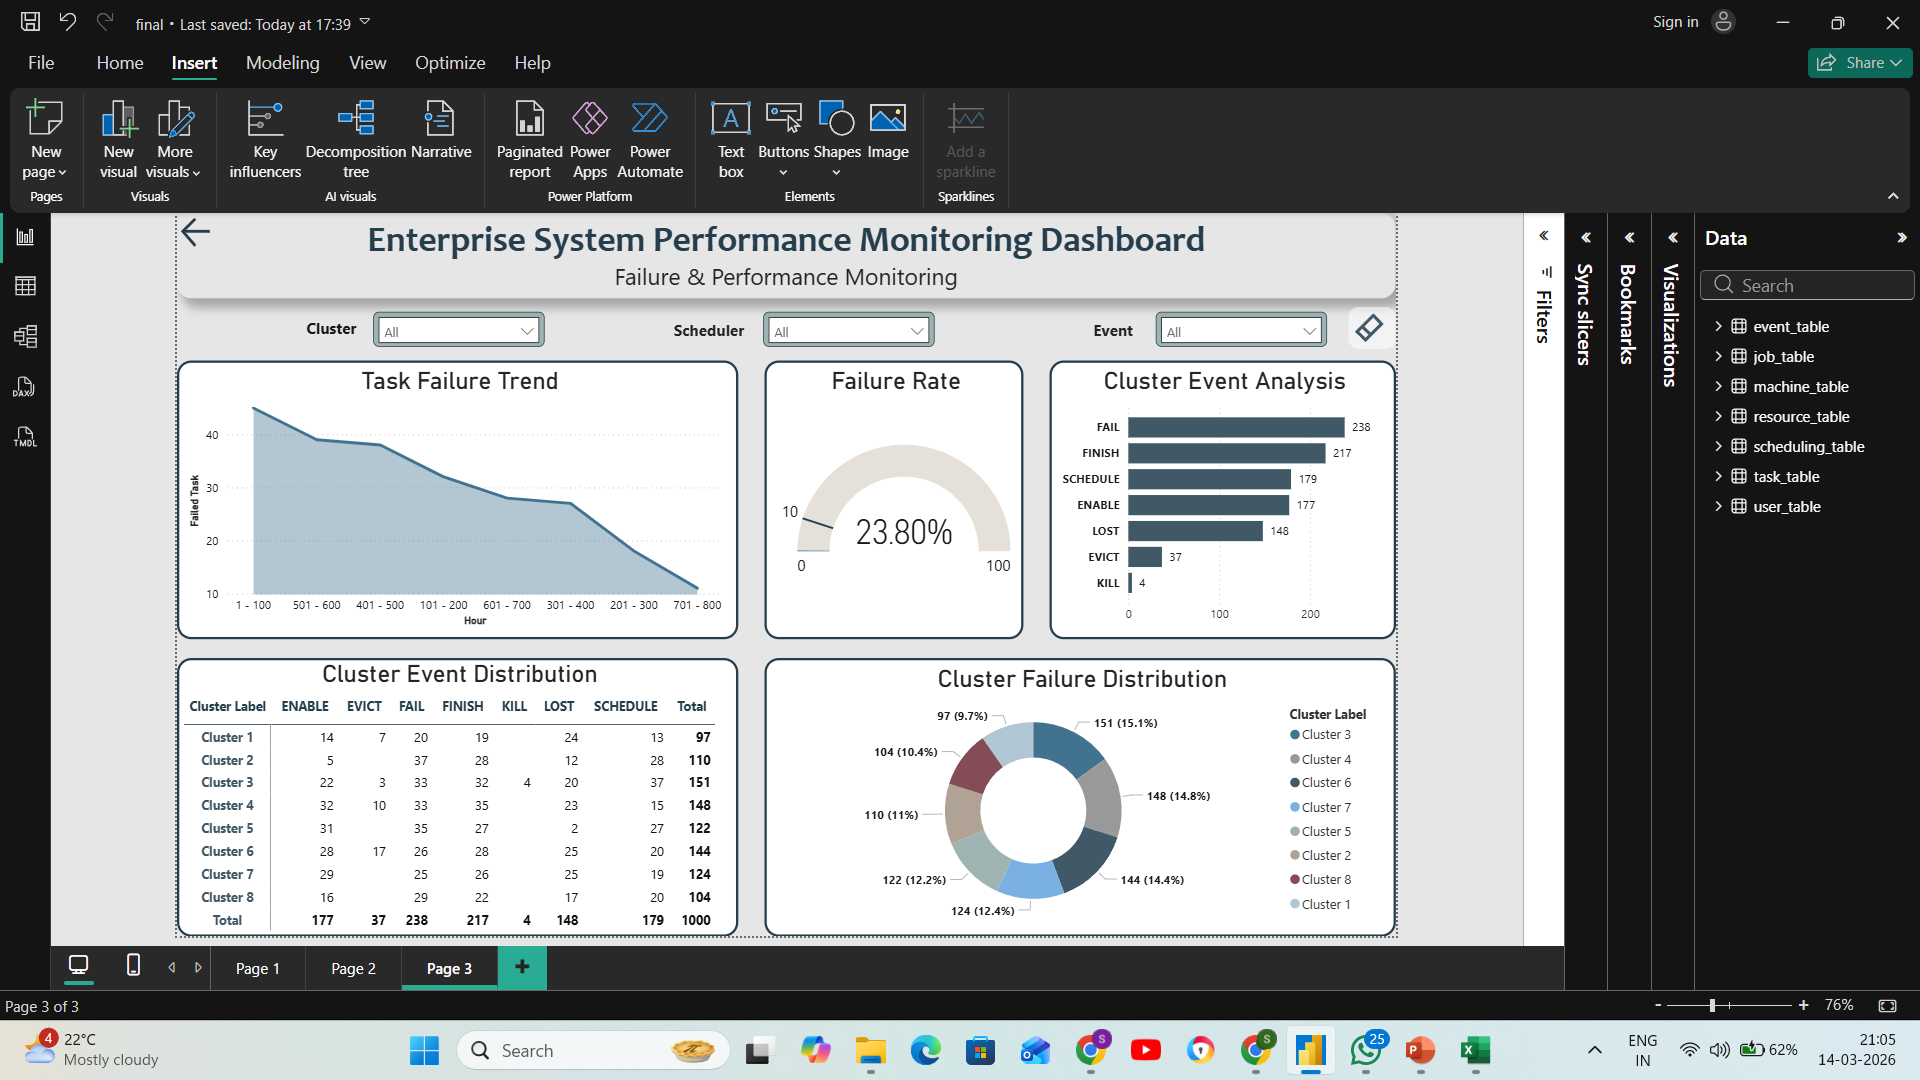

Layout of this report page (visuals, bound fields, positions):
{"tool":"powerbi","page":{"name":"Page 3","canvas":[1280,760],"ordinal":2},"visuals":[{"type":"slicer","title":"Cluster","fields":{"Values":["machine_table.cluster_Label"]},"box":[206.5,103.2,180,37],"z":0},{"type":"slicer","title":"Cluster","fields":{"Values":["scheduling_table.Scheduler_Label"]},"box":[616.4,103.2,180,37],"z":1000},{"type":"slicer","title":"Cluster","fields":{"Values":["event_table.event"]},"box":[1028.8,103.2,180,37],"z":2000},{"type":"areaChart","title":"Task Failure Trend","fields":{"Category":["task_table.task_start_hour (groups)"],"Y":["Sum(task_table.failed)"]},"box":[0,154.9,589.6,292.8],"z":3000},{"type":"barChart","title":"Cluster Event Analysis","fields":{"Category":["task_table.event"],"Y":["CountNonNull(task_table.event)"]},"box":[916.5,154.9,363.7,292.8],"z":4000},{"type":"gauge","title":"Failure Rate","fields":{"Y":["task_table.Failure Rate"],"MinValue":["task_table.Gauge Min"],"MaxValue":["task_table.Gauge Max"],"TargetValue":["task_table.Failure Target"]},"box":[617.1,154.9,271.8,292.8],"z":5000},{"type":"donutChart","title":"Cluster Failure Distribution","fields":{"Category":["machine_table.cluster_Label"],"Y":["CountNonNull(task_table.failed)"]},"box":[617.1,467.5,663.1,292.8],"z":6000},{"type":"textbox","box":[118.2,104.5,88.3,32.3],"z":7000},{"type":"textbox","box":[515,105.7,88.3,32.3],"z":8000},{"type":"textbox","box":[949.3,106.4,68.3,31.5],"z":9000},{"type":"pivotTable","title":"Cluster Event Distribution","fields":{"Rows":["machine_table.cluster_Label"],"Columns":["event_table.event"],"Values":["task_table.Total Task"]},"box":[0,467.5,589.6,292.8],"z":10000},{"type":"textbox","box":[0,0,1280.2,89.3],"z":11000},{"type":"actionButton","box":[1230.3,98.5,49.9,44.6],"z":12000},{"type":"actionButton","box":[0,0,44.8,40.5],"z":13000}]}

Visuals, with their boxes on the page's 1280x760 design canvas (x1, y1, x2, y2). These are canvas units, not pixel positions in the 1920x1080 screenshot, which may show the page scaled, cropped or inside an application window:
"Cluster" slicer: BBox(206, 103, 386, 140)
"Cluster" slicer: BBox(616, 103, 796, 140)
"Cluster" slicer: BBox(1029, 103, 1209, 140)
"Task Failure Trend" areaChart: BBox(0, 155, 590, 448)
"Cluster Event Analysis" barChart: BBox(916, 155, 1280, 448)
"Failure Rate" gauge: BBox(617, 155, 889, 448)
"Cluster Failure Distribution" donutChart: BBox(617, 468, 1280, 760)
textbox: BBox(118, 104, 206, 137)
textbox: BBox(515, 106, 603, 138)
textbox: BBox(949, 106, 1018, 138)
"Cluster Event Distribution" pivotTable: BBox(0, 468, 590, 760)
textbox: BBox(0, 0, 1280, 89)
actionButton: BBox(1230, 98, 1280, 143)
actionButton: BBox(0, 0, 45, 40)
